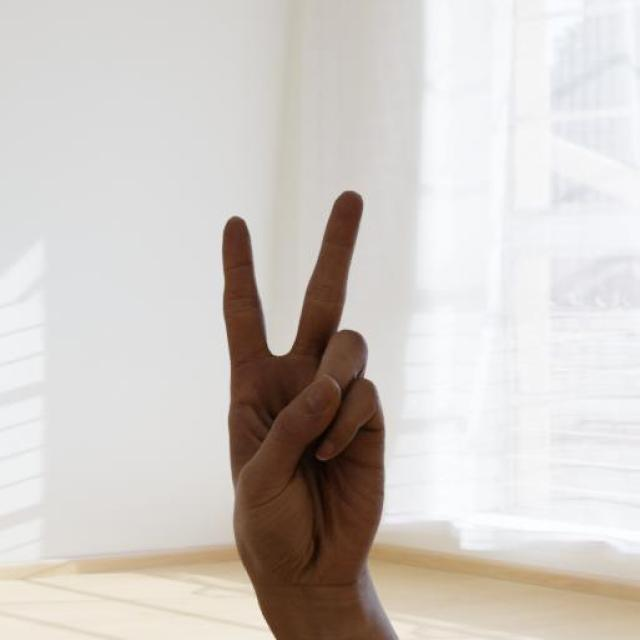V: (214, 186, 397, 612)
